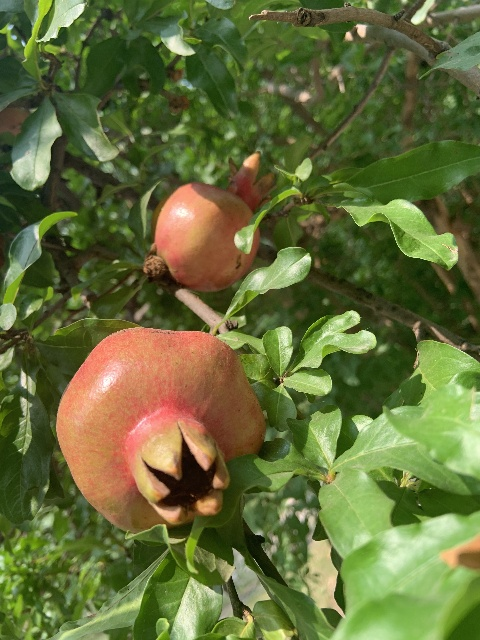ripe: (55, 326, 264, 531), (152, 151, 274, 292)
